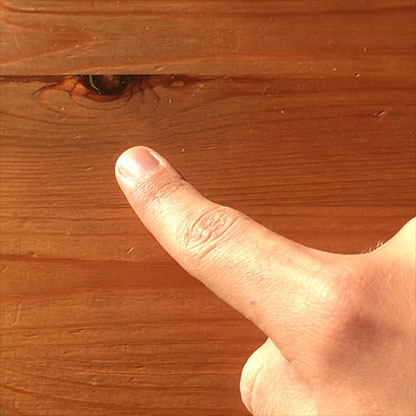fingertip: (110, 143, 172, 198)
